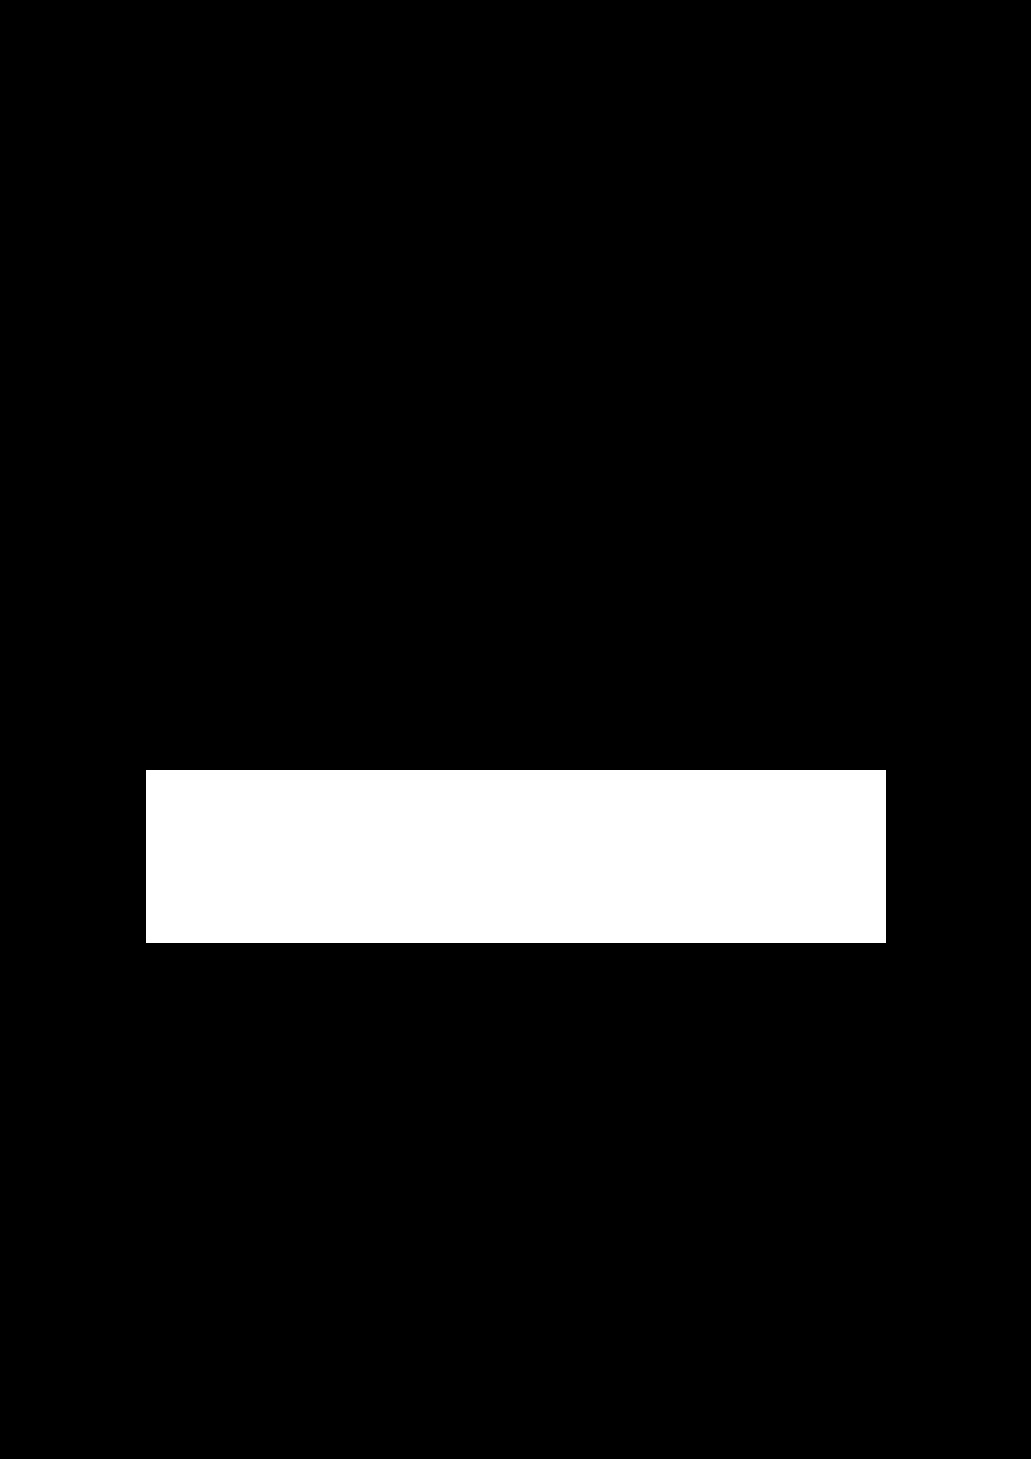table: (146, 770, 885, 943)
